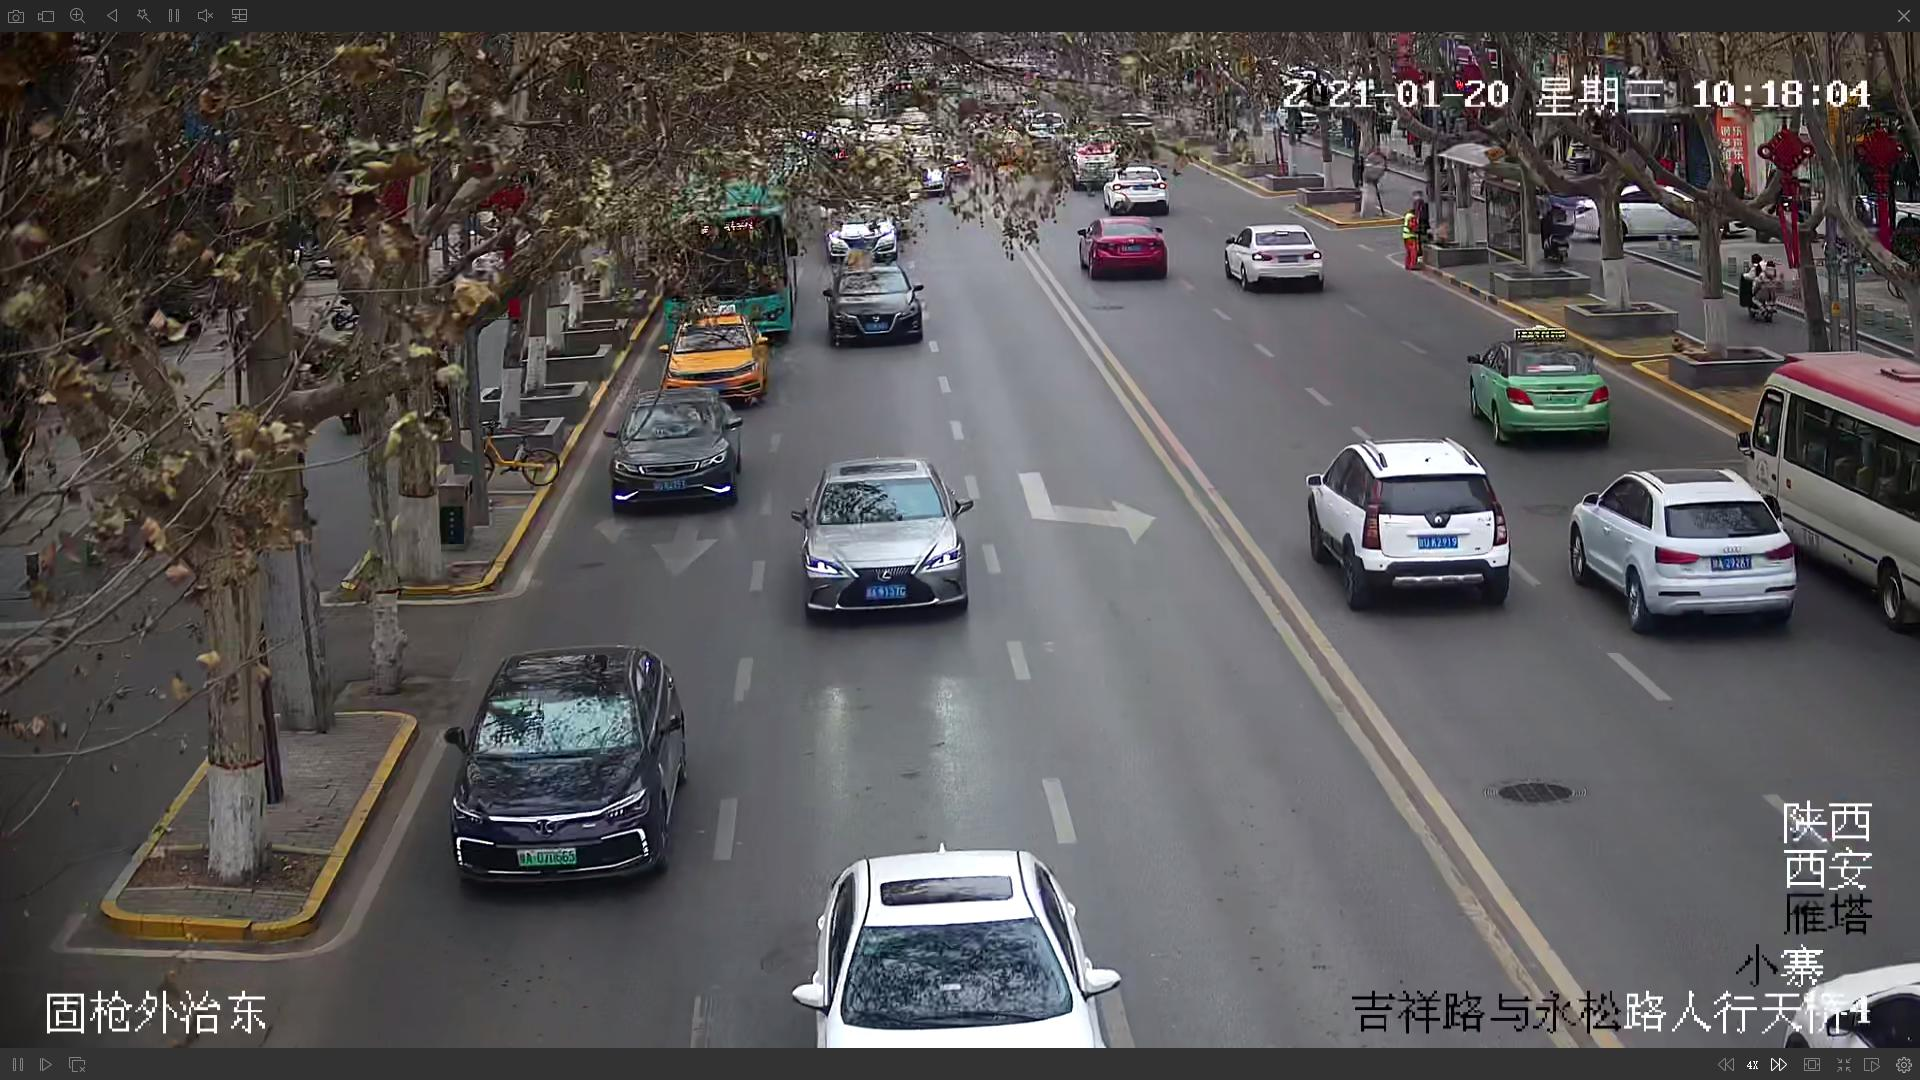black: (454, 646, 683, 874)
silver-gray: (793, 459, 963, 625)
